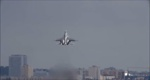maybay_muctieu: (54, 28, 77, 47)
